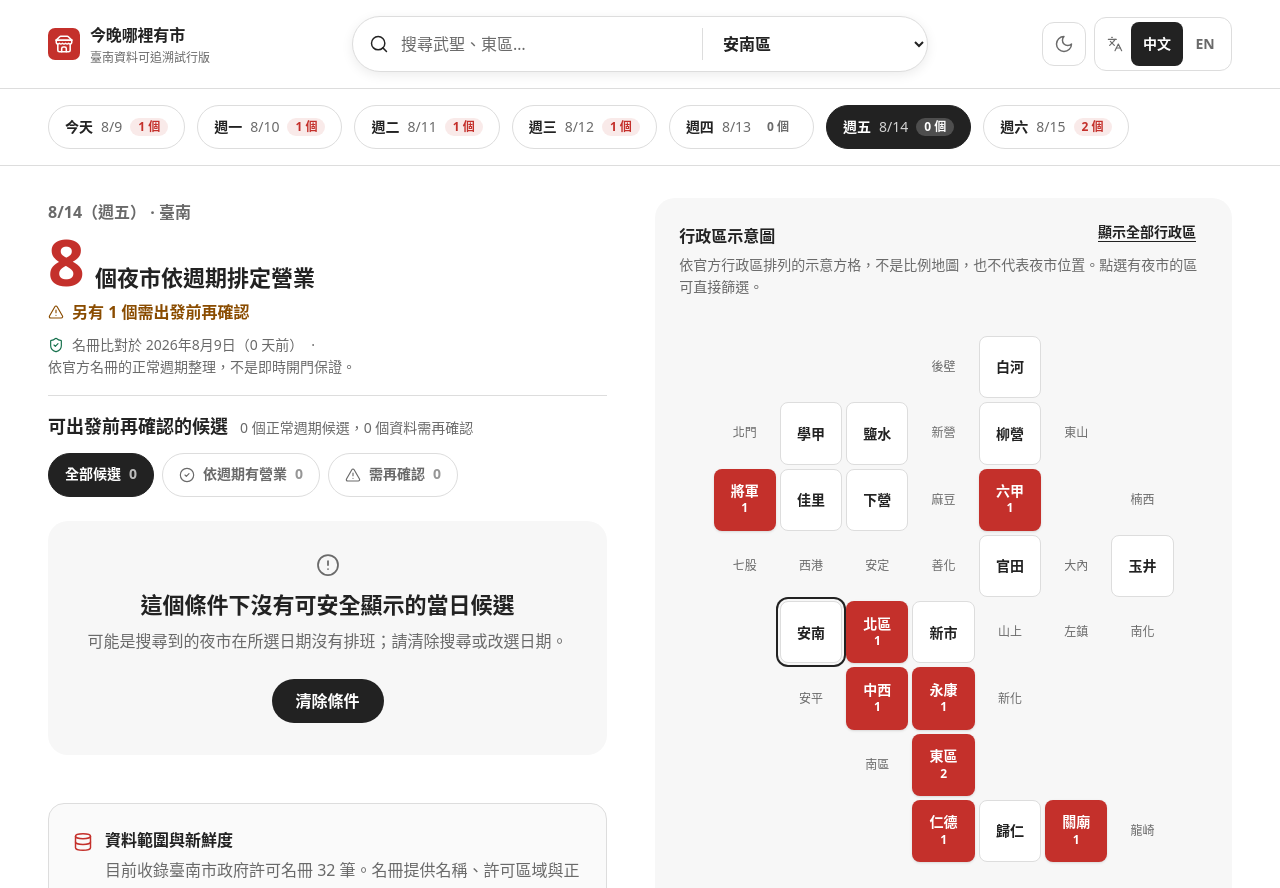
Scenario: trusted public experience › offers a recovery action when an exact district has no same-day candidate
This screenshot has width=1280, height=888.
Expected: the heading "這個條件下沒有可安全顯示的當日候選" is shown, [141, 589, 515, 619]
Click the button "清除條件" at (328, 701), box [272, 679, 384, 723]
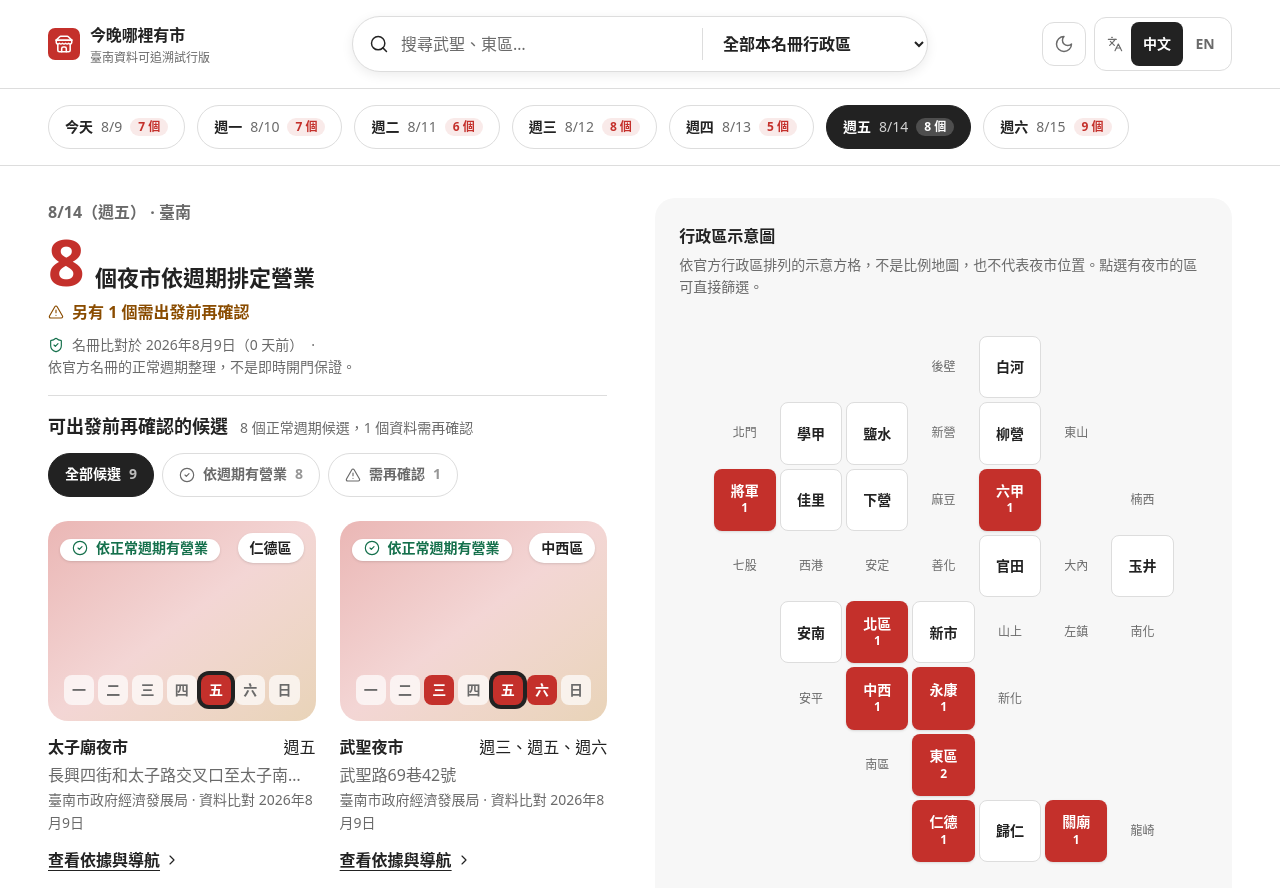
Expected: the text "8 個正常週期候選，1 個資料需再確認" is shown, [240, 417, 473, 439]
Expected: the dropdown named "行政區（選填）" shows "全部本名冊行政區", [703, 20, 927, 68]
